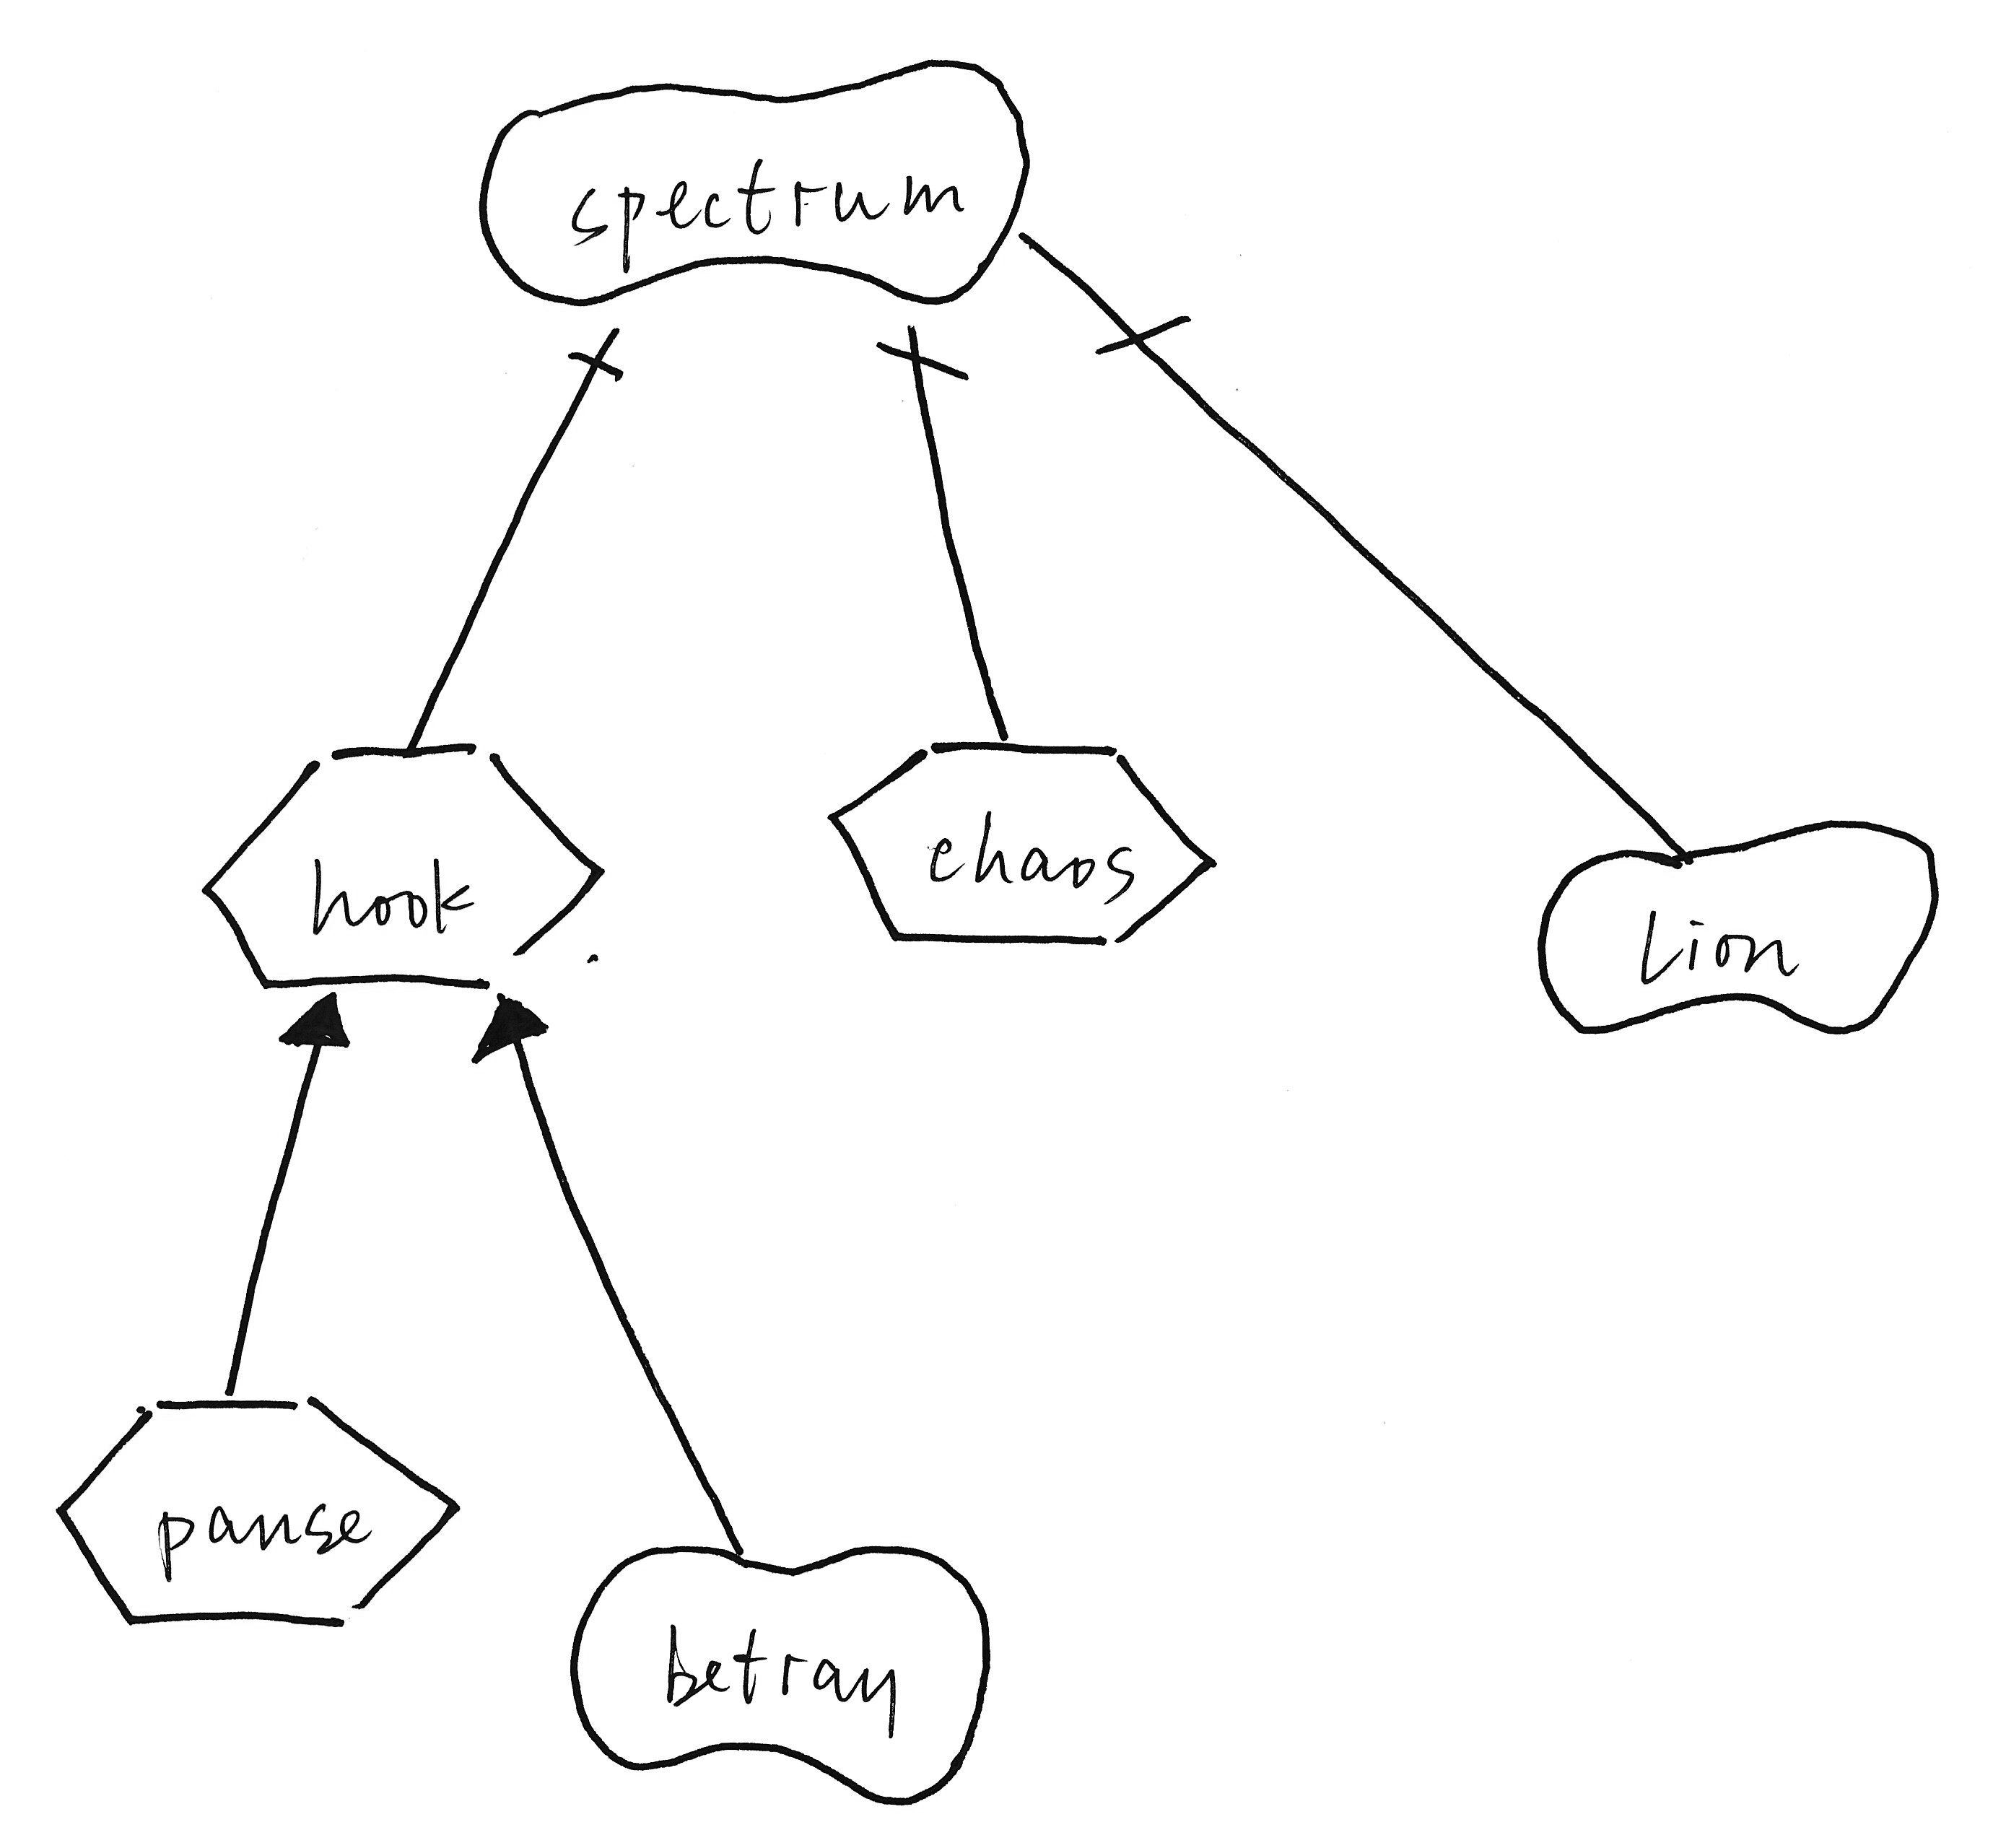and: (1066, 278, 1230, 400), (861, 316, 980, 414), (549, 318, 640, 403)
or: (456, 989, 575, 1085), (266, 983, 379, 1072)
quality: (467, 31, 1055, 325), (556, 1528, 1010, 1815), (1513, 805, 1957, 1053)
task: (176, 721, 624, 999), (40, 1371, 475, 1649), (813, 728, 1237, 964)
